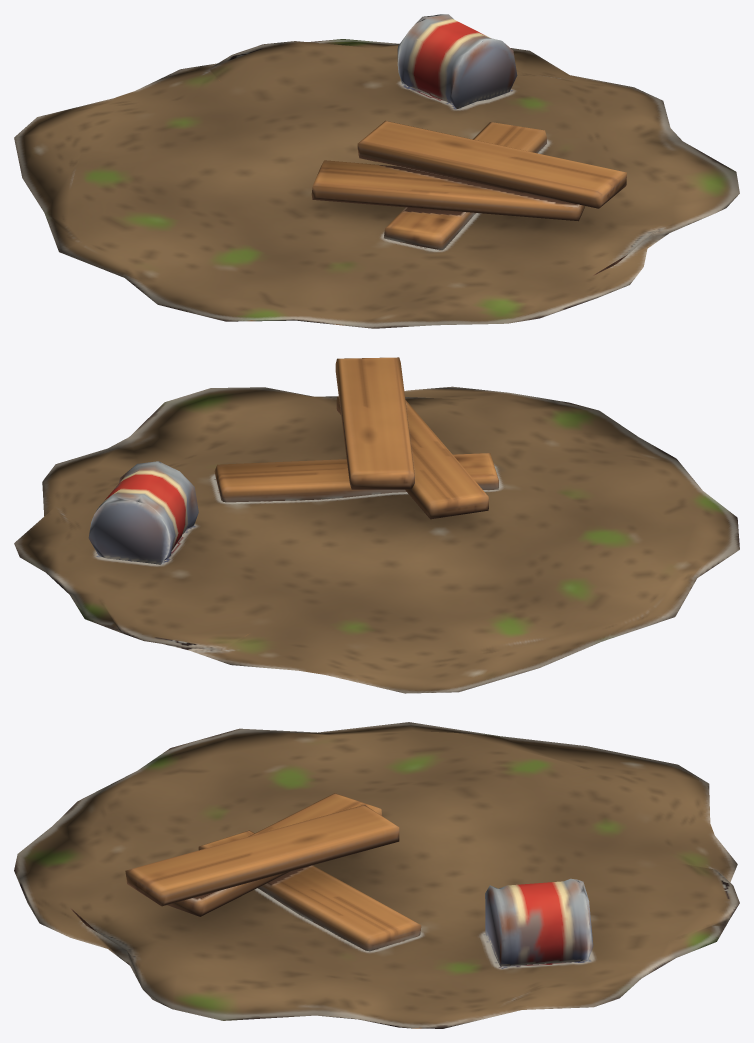
Rendered from junk_pile_picked.glb.
The picture shows the model from 3 angles, top to bottom: view 1: azimuth 30°, elevation 25°; view 2: azimuth 150°, elevation 25°; view 3: azimuth 270°, elevation 25°; orthographic projection. The views are drawn at different scales.
Parts seen in each view (by area): view 1: junk_pile_picked; view 2: junk_pile_picked; view 3: junk_pile_picked.
Part boxes in pixels (x1=…): junk_pile_picked: x1=14, y1=14, x2=739, y2=328; junk_pile_picked: x1=14, y1=357, x2=739, y2=693; junk_pile_picked: x1=14, y1=722, x2=739, y2=1028.
Bounding box in the file's own units: 1.53 × 0.1908 × 1.52.
Materials: 1 (1 with a texture image).
